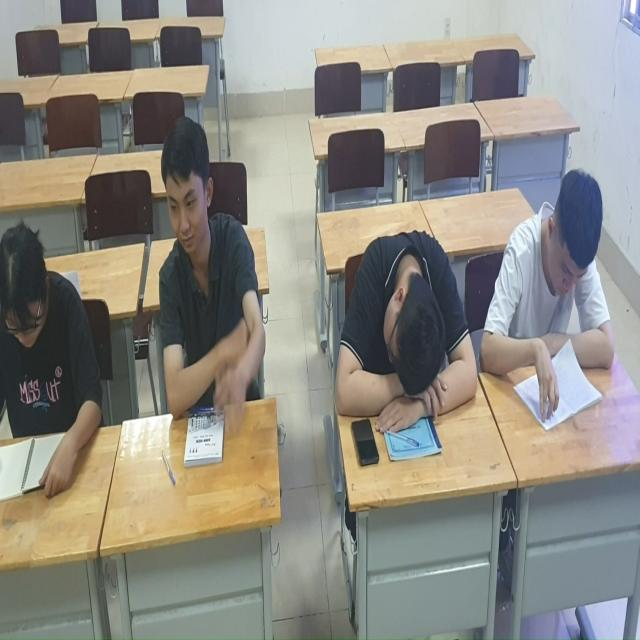read: (487, 155, 633, 430), (2, 227, 106, 499)
sleep: (334, 207, 490, 444)
